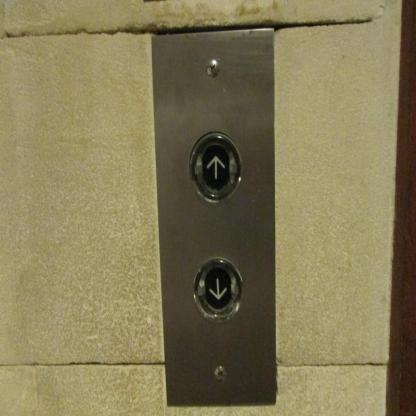down: (192, 256, 244, 323)
up: (188, 131, 243, 202)
